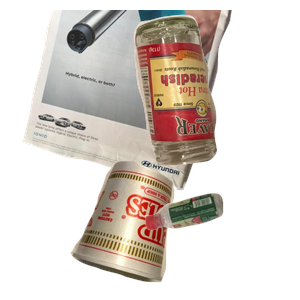glass: (131, 12, 300, 170)
paper: (20, 10, 244, 190)
plastic: (142, 191, 300, 300)
trash: (68, 158, 235, 300)
